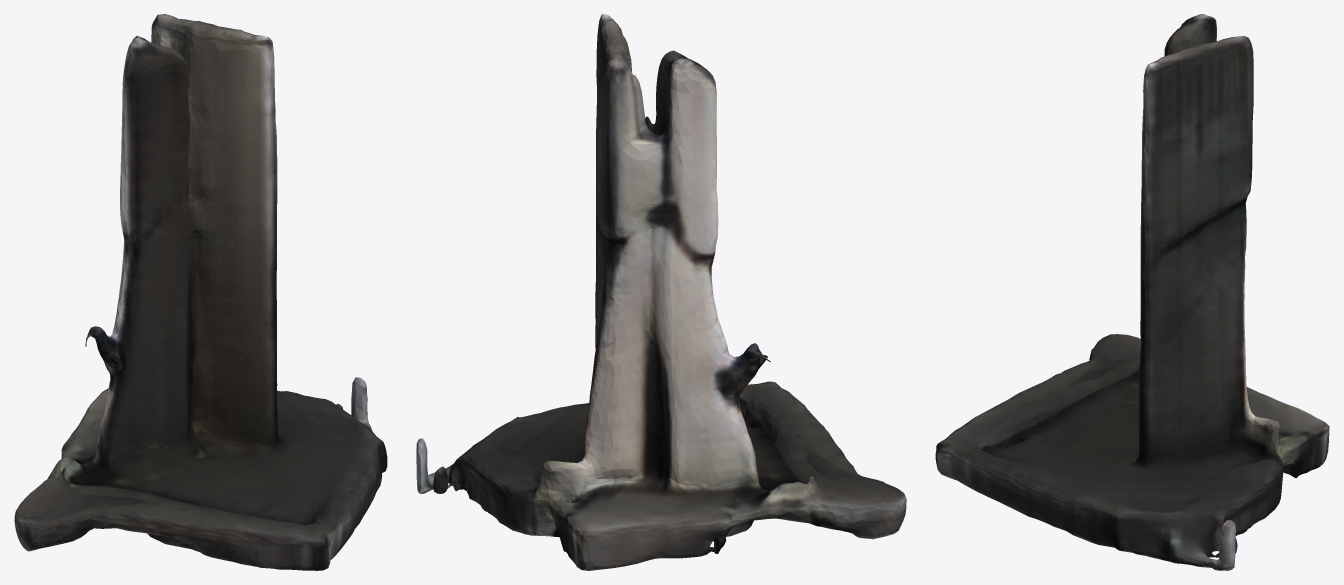
Rendered from tower.glb.
3 views of the same model, side by side, from view 1: azimuth 30°, elevation 25°; view 2: azimuth 150°, elevation 25°; view 3: azimuth 270°, elevation 25° (orthographic). The views are drawn at different scales.
Visible parts, largest first — view 1: mesh; view 2: mesh; view 3: mesh.
Part boxes in pixels (x1,y1,x2,y2): mesh: [14, 14, 387, 570]; mesh: [416, 14, 906, 570]; mesh: [935, 14, 1329, 570].
Bounding box in the file's own units: 12.13 × 13.1 × 10.51.
Materials: 1 (1 with a texture image).
